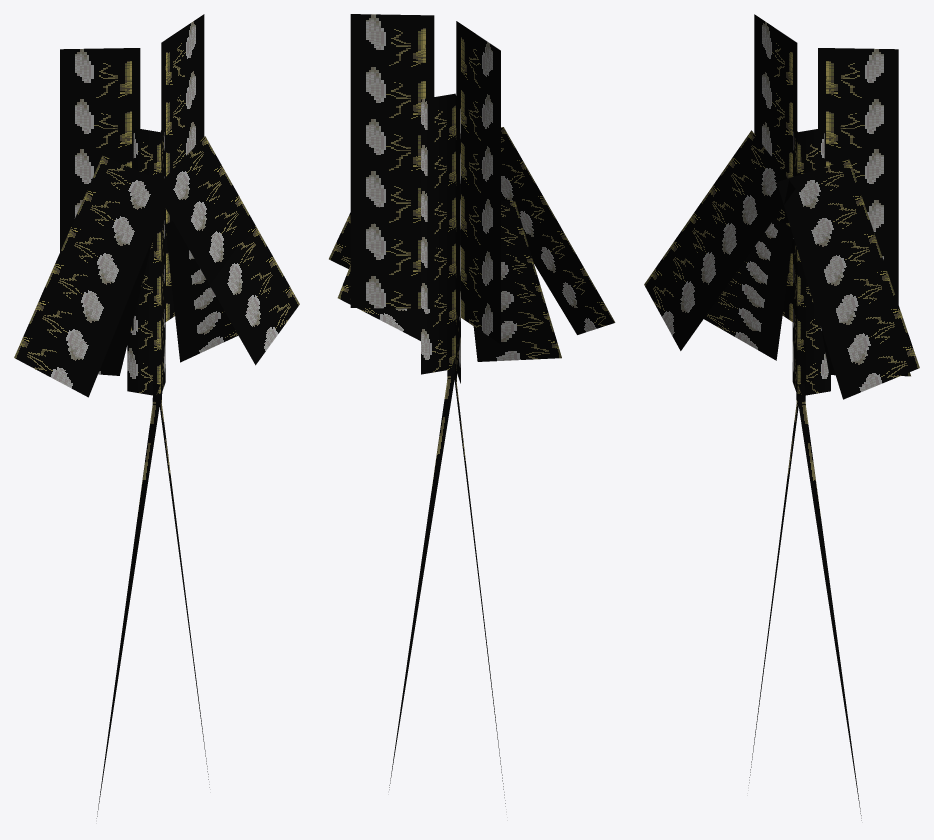
Rendered from 5036musi46_e.gltf.
3 views of the same model, side by side, from view 1: azimuth 30°, elevation 25°; view 2: azimuth 150°, elevation 25°; view 3: azimuth 330°, elevation 25° (orthographic). The views are drawn at different scales.
Visible parts, largest first — view 1: 5036musi46_e; view 2: 5036musi46_e; view 3: 5036musi46_e.
Part boxes in pixels (bbox=[...]): 5036musi46_e: bbox=[14, 14, 299, 818]; 5036musi46_e: bbox=[329, 14, 615, 806]; 5036musi46_e: bbox=[644, 14, 919, 820].
Bounding box in the file's own units: 0.2366 × 0.6152 × 0.0779.
Materials: 1 (1 with a texture image).
